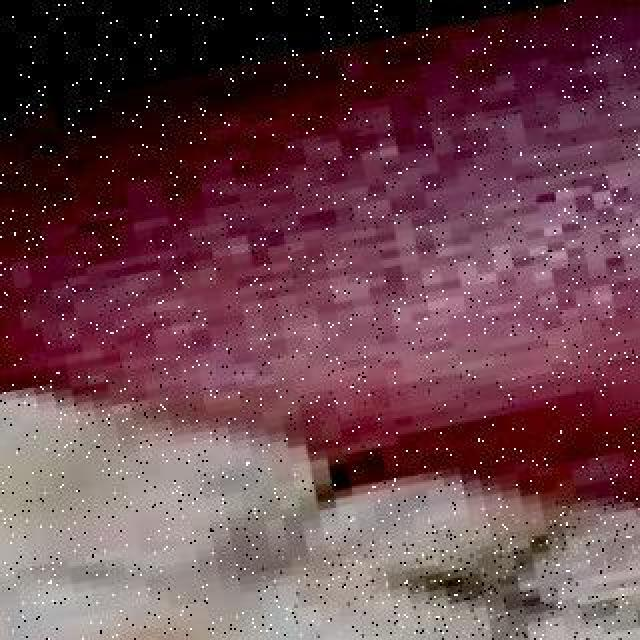cavities: (342, 484, 640, 640)
